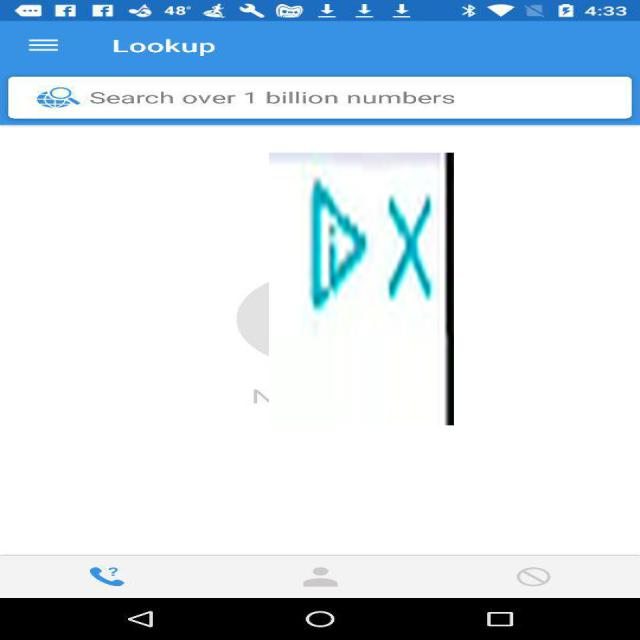sneaking: (269, 153, 454, 425)
